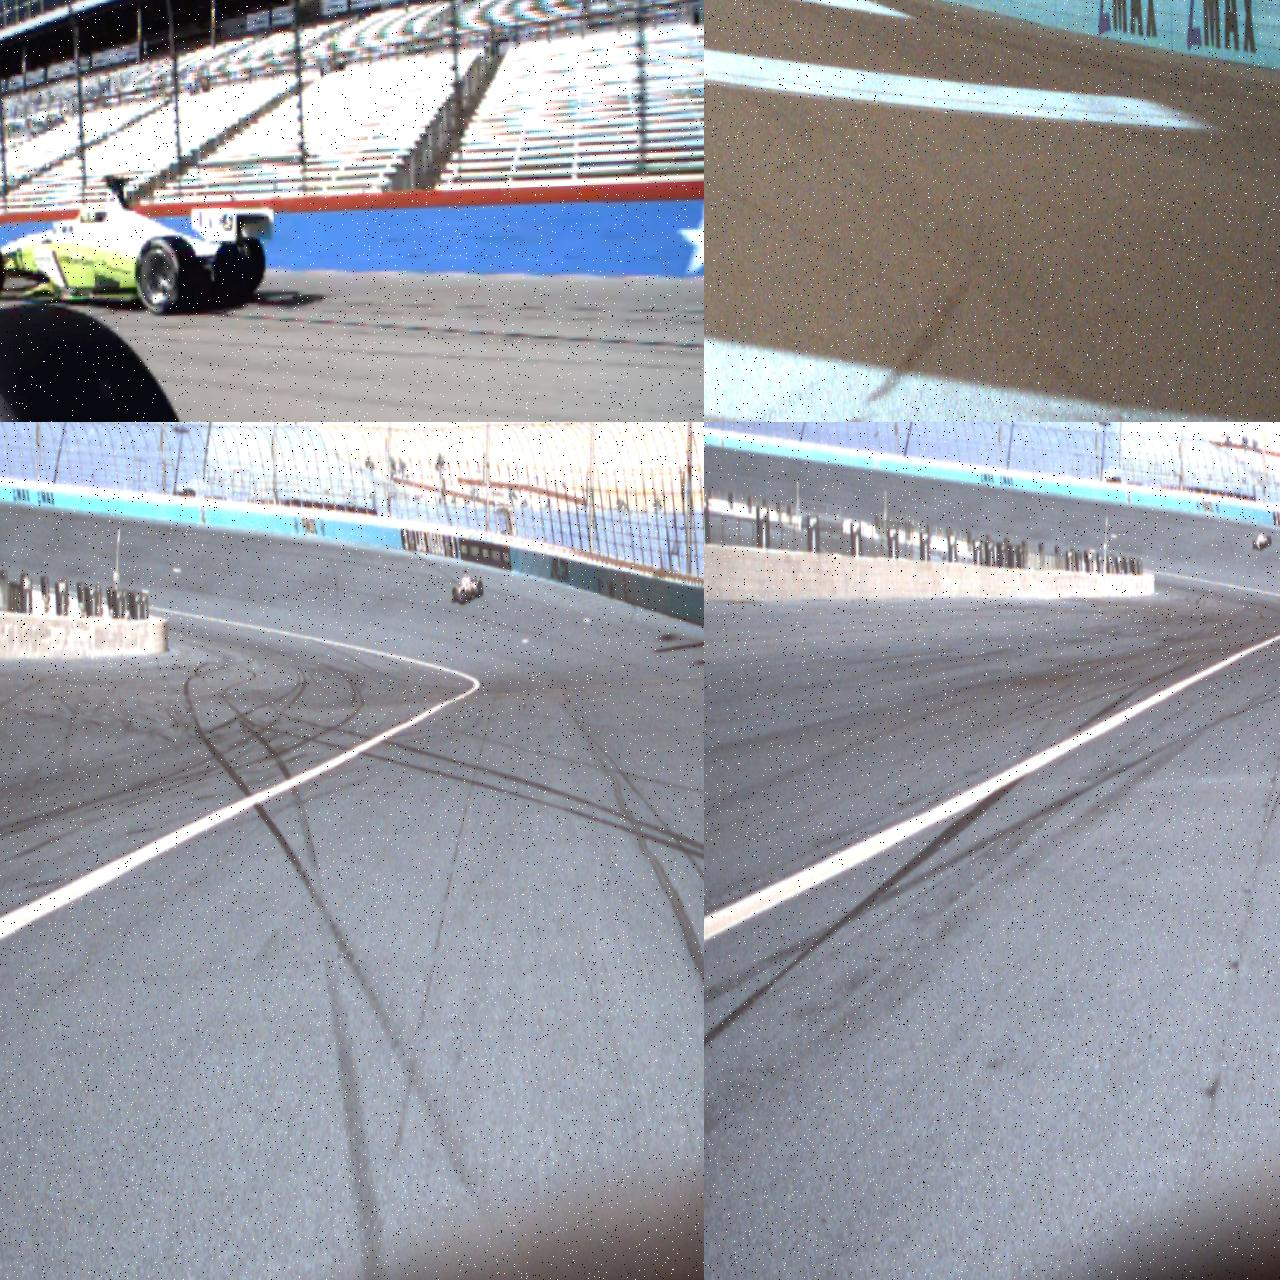AV: (0, 169, 278, 324), (450, 568, 483, 604), (1250, 529, 1271, 550)
Wheel: (134, 234, 198, 316), (231, 236, 267, 295), (459, 587, 467, 604), (477, 580, 483, 595), (451, 586, 457, 601), (1266, 536, 1271, 545), (1252, 540, 1255, 550), (1259, 542, 1262, 550)
